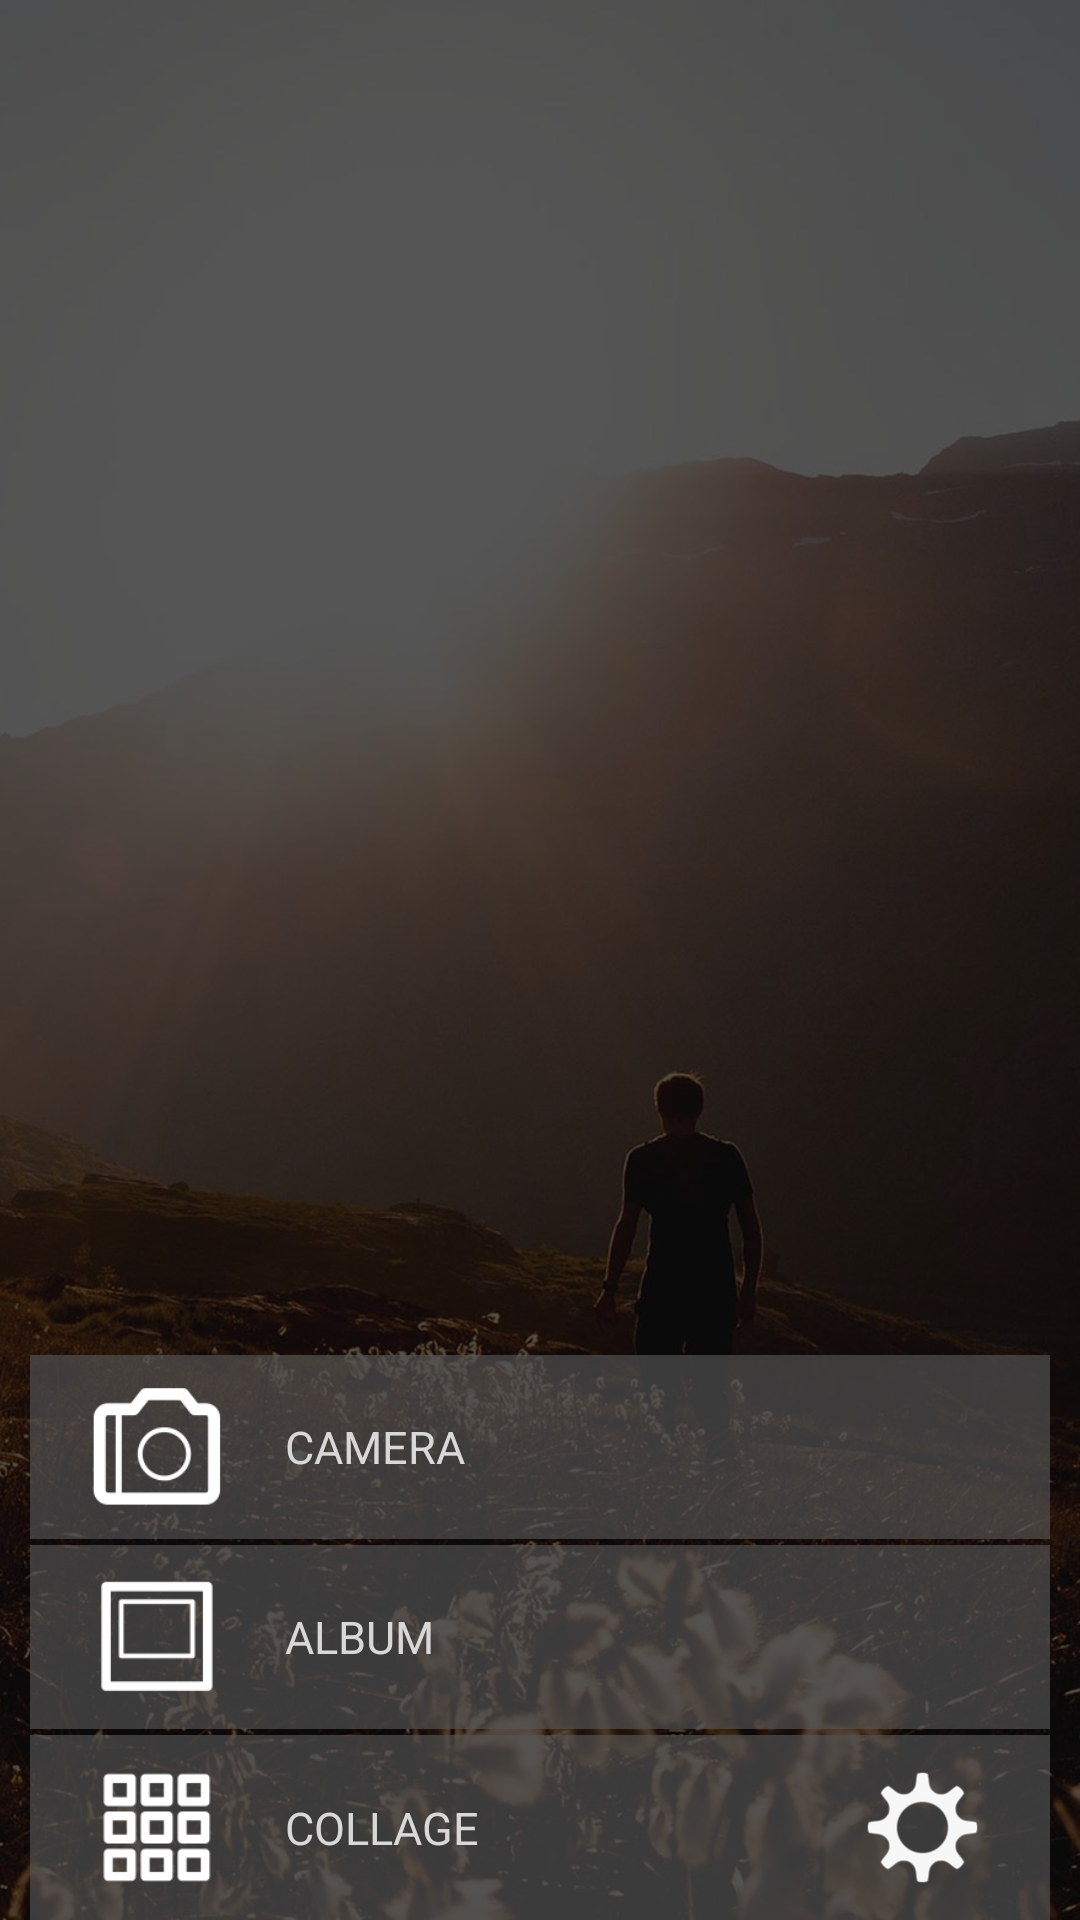

Screen size 1080w x 1920h. Icon name, then its center in pixels as [x,y]:
setting: [922,1827]
